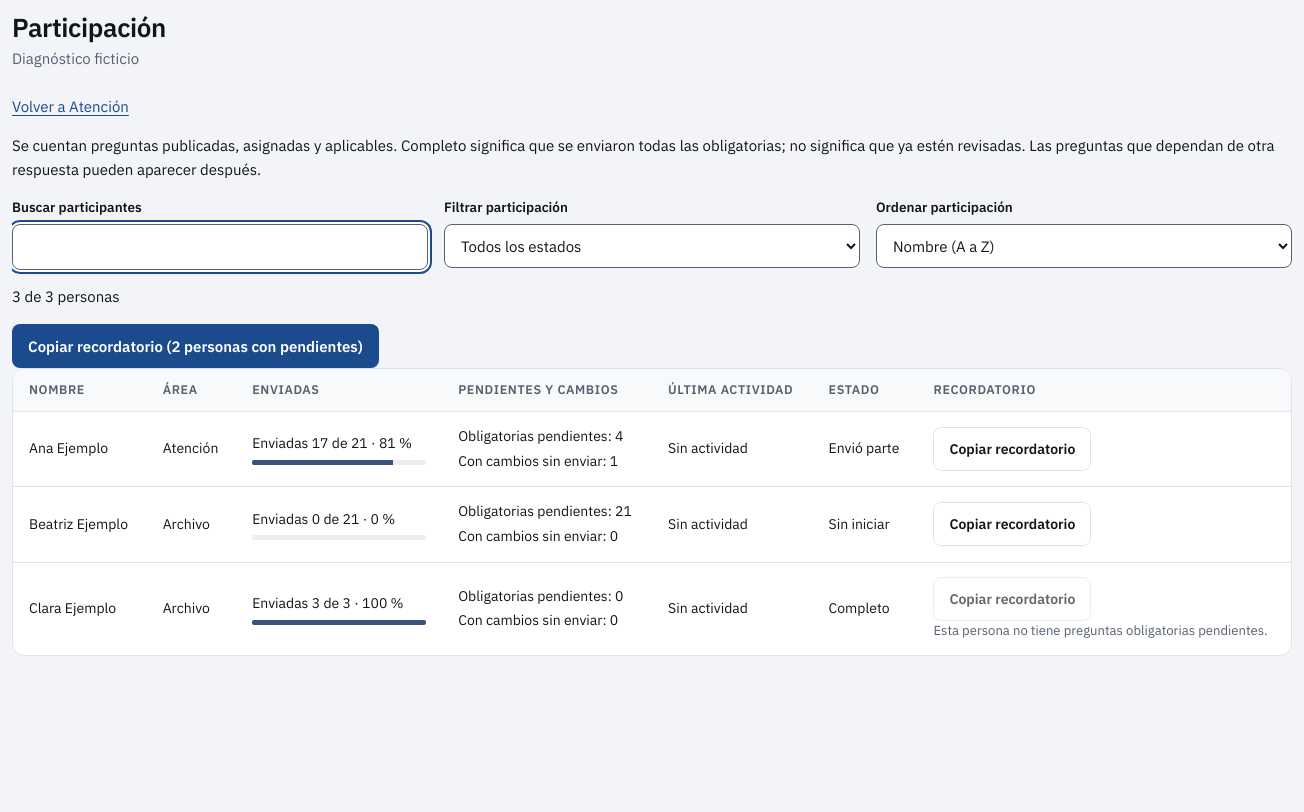
Scenario: busca por nombre o área sin otra consulta y conserva los filtros en la URL
Expected: the table is shown, x1=13 y1=369 x2=1291 y2=655
Type "Archivo" into the search field labelled "Buscar participantes". click: point(220, 247)
box: x1=12 y1=224 x2=428 y2=270
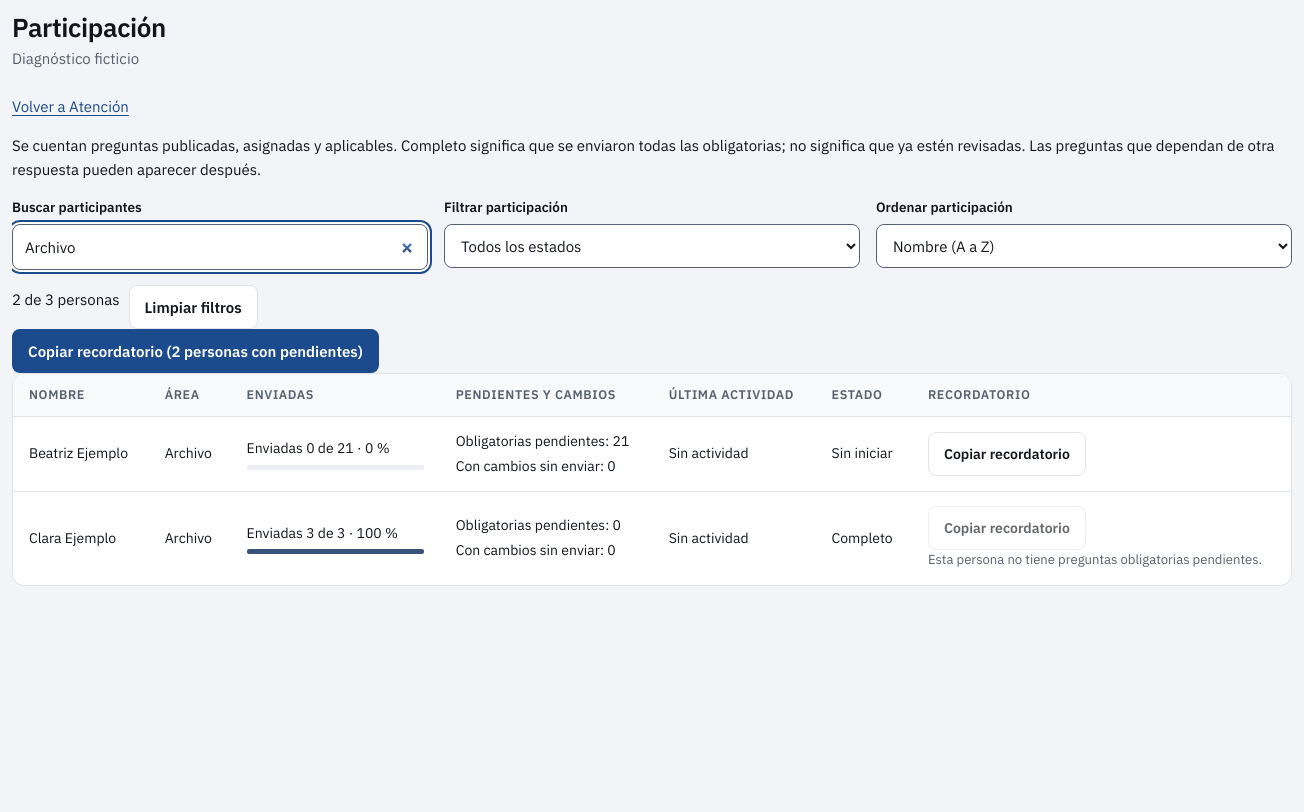
Expected: the cell "Archivo" next to "Beatriz Ejemplo" is shown, x1=165 y1=444 x2=212 y2=462
Expected: the number of rows is 3, x1=13 y1=374 x2=1291 y2=416; x1=13 y1=417 x2=1291 y2=492; x1=13 y1=492 x2=1291 y2=584
Replace the text in the search field labelled "Buscar participantes" with "Ana Ejemplo". click: point(220, 247)
box: x1=12 y1=224 x2=428 y2=270
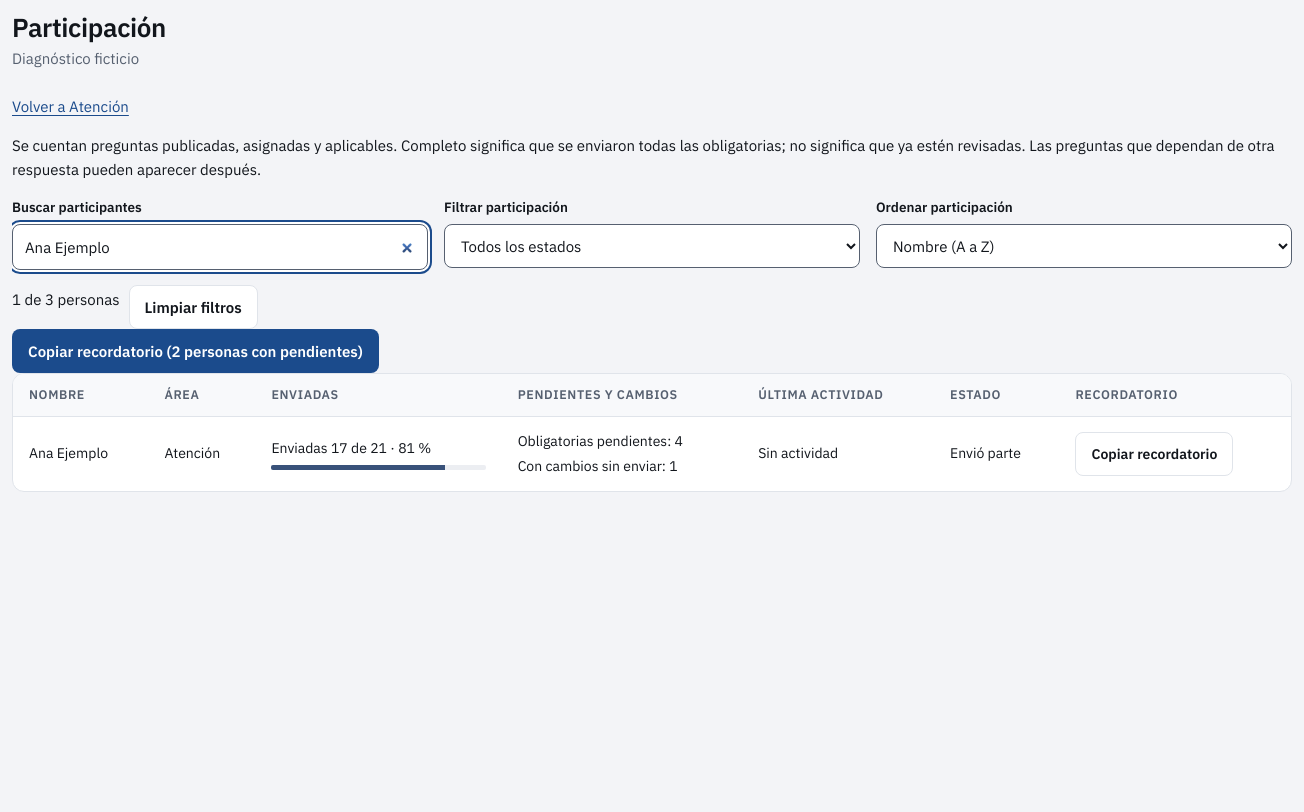
Expected: the number of rows is 2, x1=13 y1=374 x2=1291 y2=416; x1=13 y1=417 x2=1291 y2=491
Expected: the row "Ana Ejemplo" is shown, x1=13 y1=417 x2=1291 y2=491
Click the button "Limpiar filtros". click: point(193, 307)
box: x1=128 y1=285 x2=258 y2=329
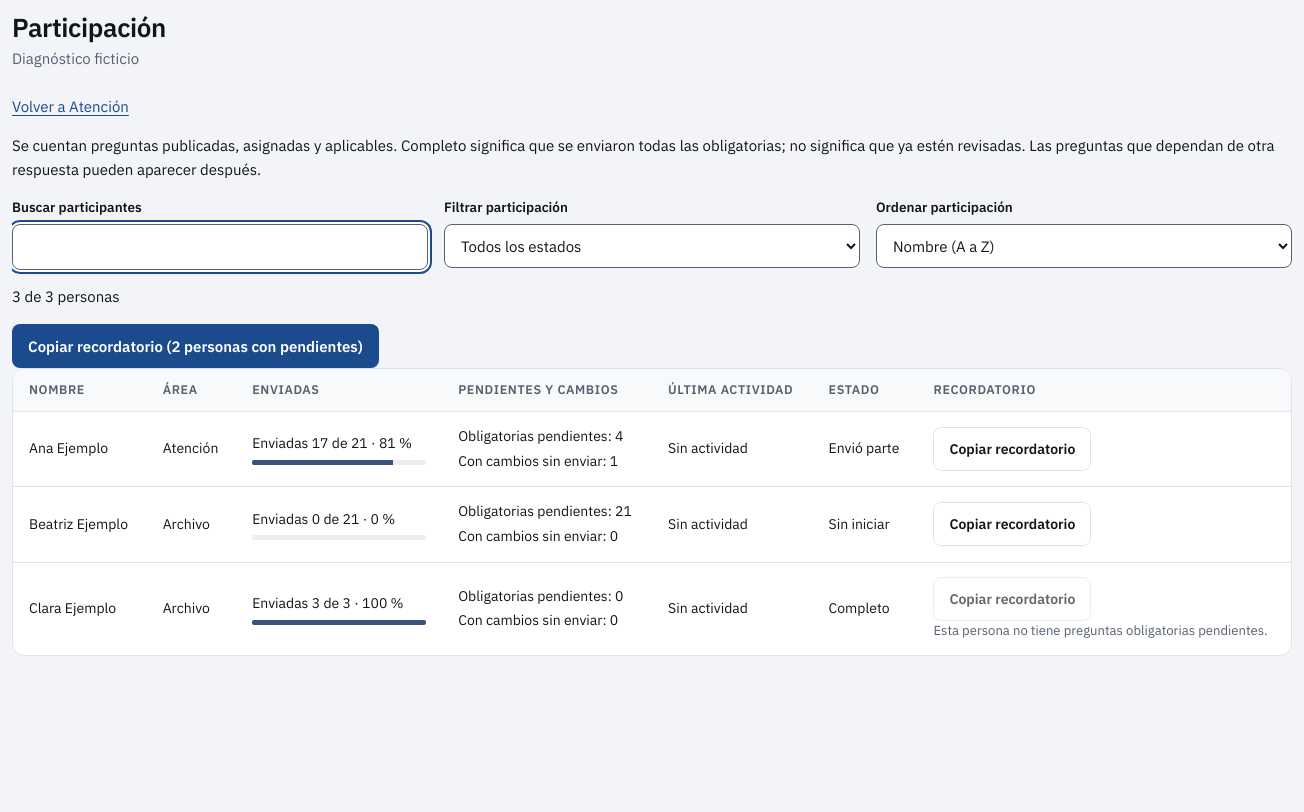
Expected: the number of rows is 4, x1=13 y1=369 x2=1291 y2=411; x1=13 y1=412 x2=1291 y2=487; x1=13 y1=487 x2=1291 y2=562; x1=13 y1=562 x2=1291 y2=655
